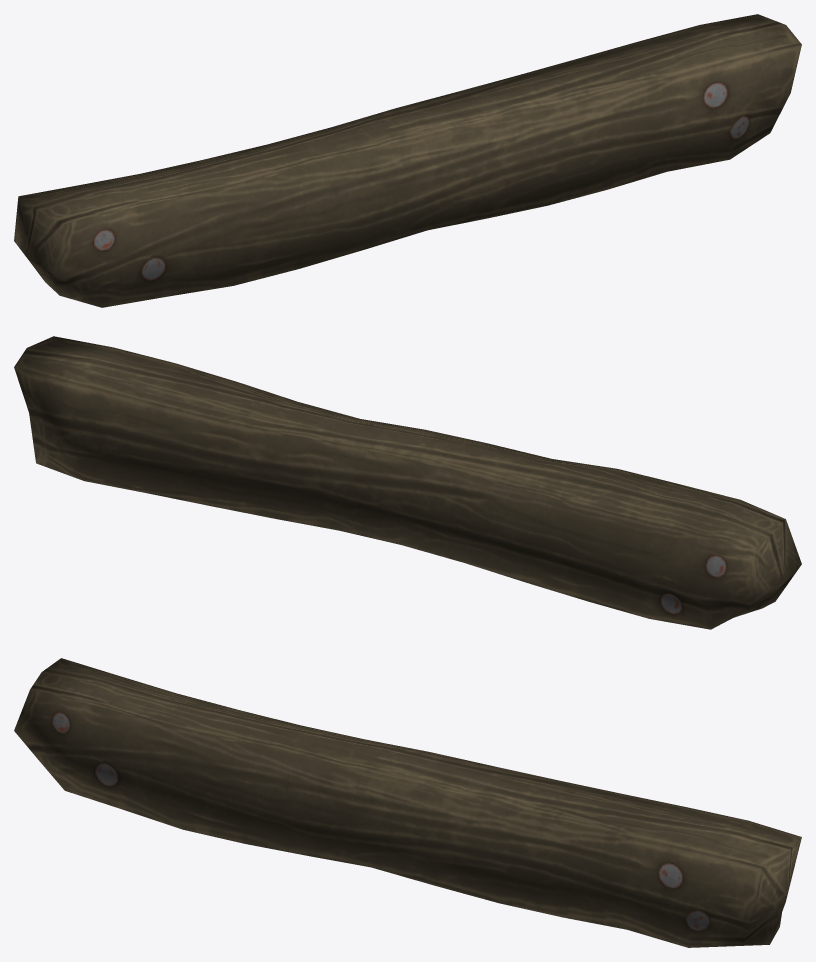
Rendered from wood_big_C.fbx.
The picture shows the model from 3 angles, top to bottom: view 1: azimuth 30°, elevation 25°; view 2: azimuth 150°, elevation 25°; view 3: azimuth 330°, elevation 25°; orthographic projection.
Parts seen in each view (by area): view 1: wood_big_C; view 2: wood_big_C; view 3: wood_big_C.
Boxes of the visible parts, x1=… form: wood_big_C: x1=14, y1=14, x2=801, y2=307; wood_big_C: x1=14, y1=336, x2=801, y2=629; wood_big_C: x1=14, y1=658, x2=801, y2=947.
Size of what is drawn, in the model's own units: 343 by 47.84 by 43.24.
1 material, 1 textured.
